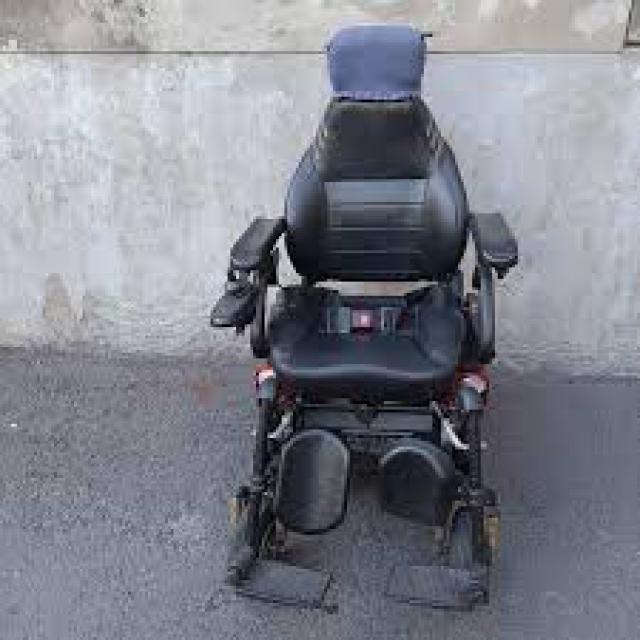wheelchair: (187, 8, 524, 638)
